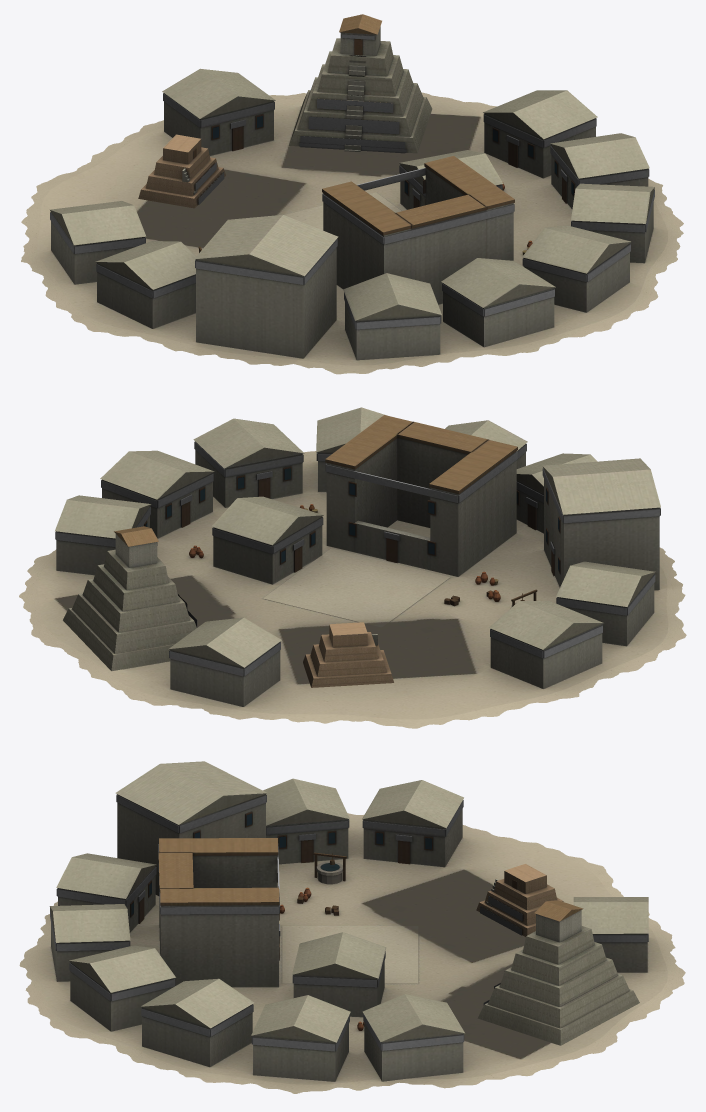
Rendered from classical-town-medium-b-americas.glb.
The picture shows the model from 3 angles, top to bottom: view 1: azimuth 30°, elevation 25°; view 2: azimuth 150°, elevation 25°; view 3: azimuth 270°, elevation 25°; orthographic projection.
Visible parts, largest first — view 1: LOD0; view 2: LOD0; view 3: LOD0.
Boxes of the visible parts, x1,y1,x2,y2 form: LOD0: [21, 14, 683, 374]; LOD0: [19, 407, 686, 728]; LOD0: [19, 761, 685, 1093].
Size of what is drawn, in the model's own units: 6 by 1.05 by 5.98.
Materials: 3 (3 with a texture image).
